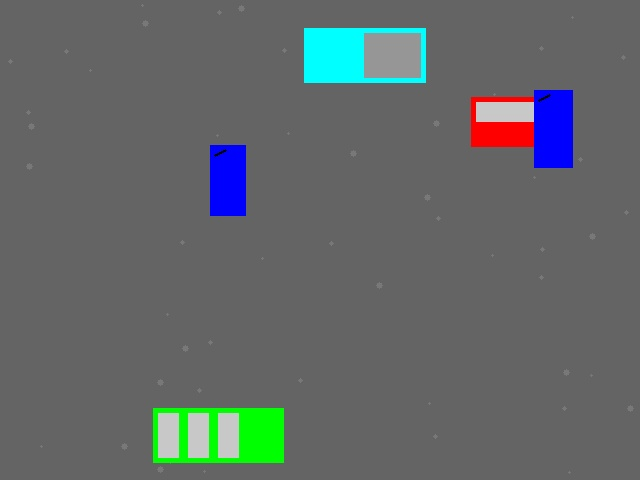bus: (153, 408, 283, 462)
car: (471, 97, 569, 146)
motorcycle: (534, 90, 572, 167), (210, 145, 245, 215)
truck: (304, 28, 425, 82)
